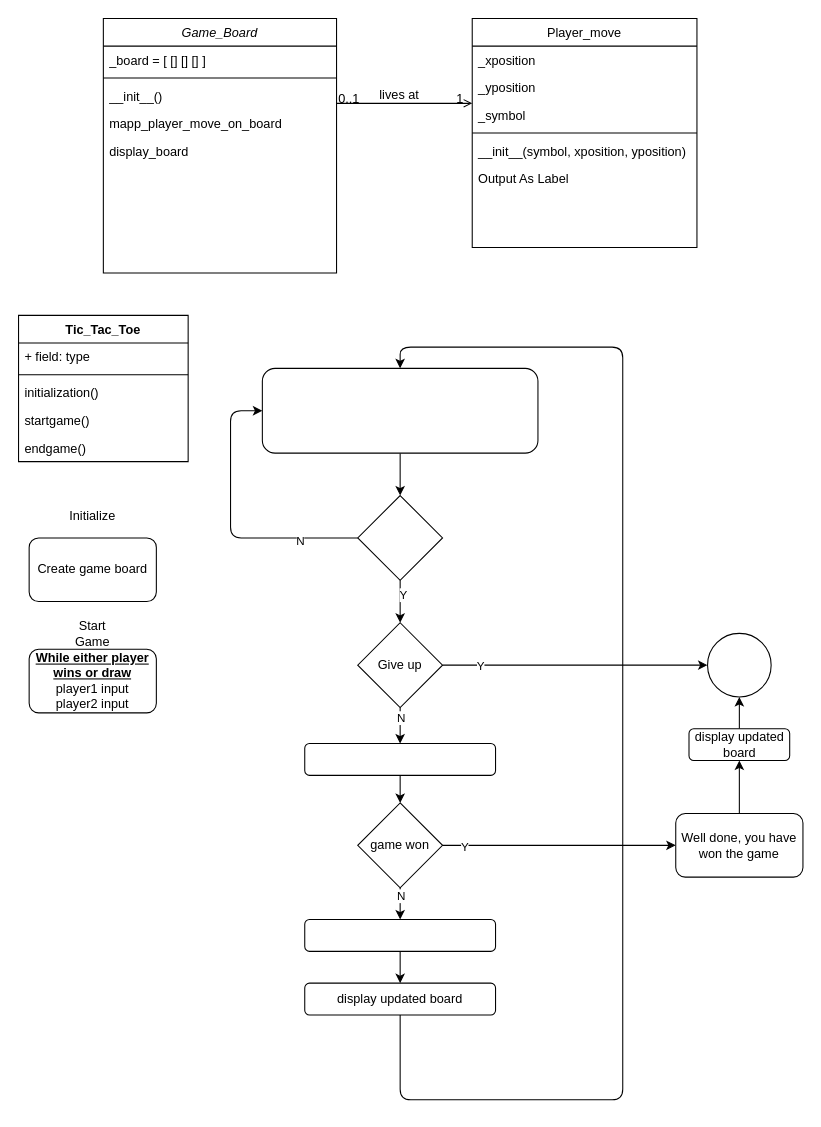
The diagram is 821 pixels wide and 1127 high, and some of its shapes have lost their labels. Here are the shapes that lost their labels. From the top down, the centre of each, then its label:
At point 399,410: "1-Display message to input Coordinates 2-input coordinates 3-Analyze input".
At point 400,537: "Valid Move".
At point 738,664: "END".
At point 400,759: "print(move accepted)".
At point 400,934: "print(here is the current board)".
